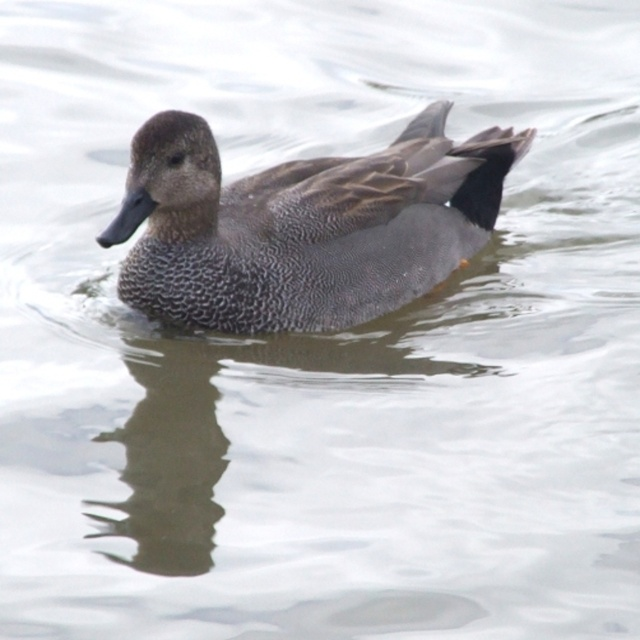Duck: (94, 99, 538, 335)
